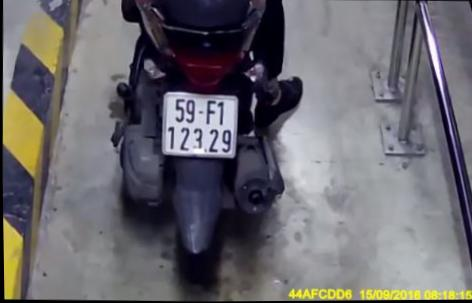LP: (159, 89, 237, 160)
